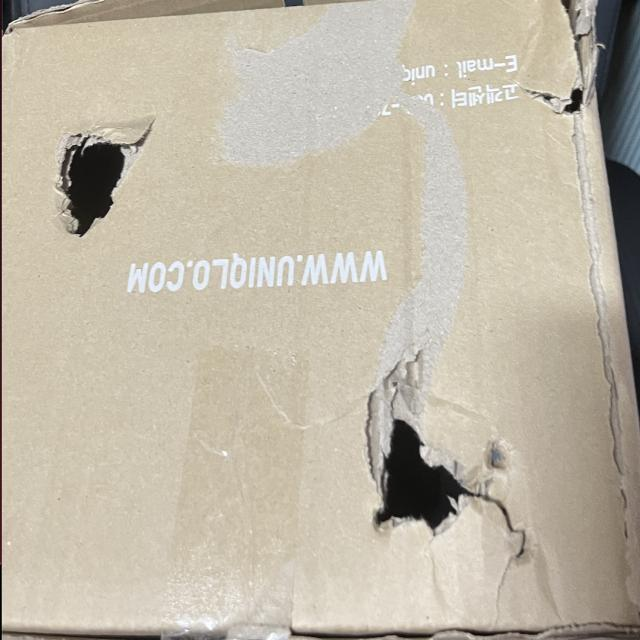hole: (361, 394, 535, 550), (47, 124, 157, 236), (520, 0, 597, 137)
